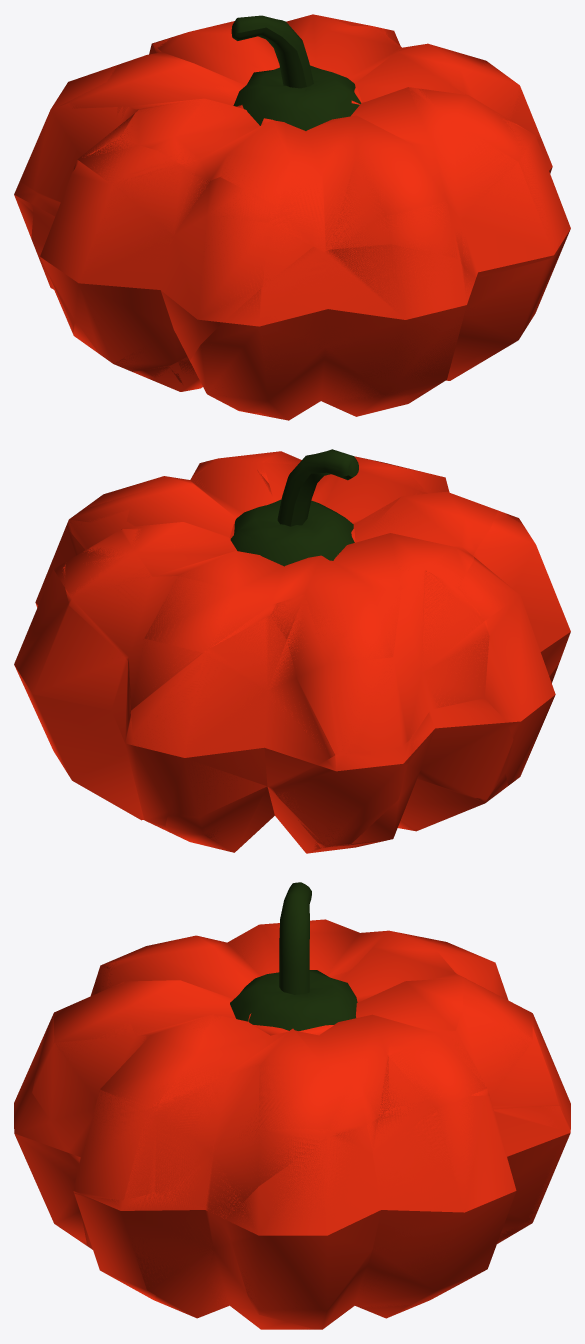
Rendered from D_Pumpkin.fbx.
The picture shows the model from 3 angles, top to bottom: view 1: azimuth 30°, elevation 25°; view 2: azimuth 150°, elevation 25°; view 3: azimuth 270°, elevation 25°; orthographic projection.
Parts seen in each view (by area): view 1: Pumpkin, Pumpkin_Part_7, Pumpkin_Part_2, Pumpkin_Part_3, Pumpkin_Part_11, Pumpkin_Part_6, Pumpkin_Part_1, Pumpkin_Part_13, Pumpkin_Part_10, Pumpkin_Part_4; view 2: Pumpkin, Pumpkin_Part_5, Pumpkin_Part_6, Pumpkin_Part_12, Pumpkin_Part_7, Pumpkin_Part_8, Pumpkin_Part_13, Pumpkin_Part_10, Pumpkin_Part_2, Pumpkin_Part_1, Pumpkin_Part_9, Pumpkin_Part_4; view 3: Pumpkin, Pumpkin_Part_12, Pumpkin_Part_1, Pumpkin_Part_2, Pumpkin_Part_11, Pumpkin_Part_8, Pumpkin_Part_3, Pumpkin_Part_6, Pumpkin_Part_5, Pumpkin_Part_7.
Boxes of the visible parts, x1,y1,x2,y2 form: Pumpkin: (58, 14, 570, 419); Pumpkin_Part_7: (40, 138, 313, 371); Pumpkin_Part_2: (119, 23, 567, 278); Pumpkin_Part_3: (190, 244, 475, 420); Pumpkin_Part_11: (175, 219, 569, 416); Pumpkin_Part_6: (20, 65, 138, 202); Pumpkin_Part_1: (216, 17, 524, 120); Pumpkin_Part_13: (31, 194, 75, 330); Pumpkin_Part_10: (14, 181, 37, 237); Pumpkin_Part_4: (72, 321, 182, 384); Pumpkin: (53, 449, 570, 852); Pumpkin_Part_5: (130, 616, 335, 817); Pumpkin_Part_6: (270, 571, 489, 754); Pumpkin_Part_12: (14, 527, 168, 831); Pumpkin_Part_7: (458, 510, 569, 785); Pumpkin_Part_8: (65, 529, 276, 710); Pumpkin_Part_13: (313, 698, 513, 848); Pumpkin_Part_10: (273, 740, 412, 847); Pumpkin_Part_2: (198, 458, 497, 586); Pumpkin_Part_1: (66, 450, 348, 564); Pumpkin_Part_9: (165, 786, 362, 853); Pumpkin_Part_4: (369, 772, 507, 844); Pumpkin: (52, 882, 570, 1329); Pumpkin_Part_12: (223, 1095, 570, 1329); Pumpkin_Part_1: (154, 884, 389, 1223); Pumpkin_Part_2: (32, 894, 326, 1200); Pumpkin_Part_11: (74, 1164, 313, 1329); Pumpkin_Part_8: (388, 993, 558, 1109); Pumpkin_Part_3: (14, 1038, 86, 1244); Pumpkin_Part_6: (328, 920, 508, 1000); Pumpkin_Part_5: (539, 1033, 570, 1128); Pumpkin_Part_7: (90, 939, 176, 995).
Size of the model in its own units: 41.29 by 29.5 by 41.06.
